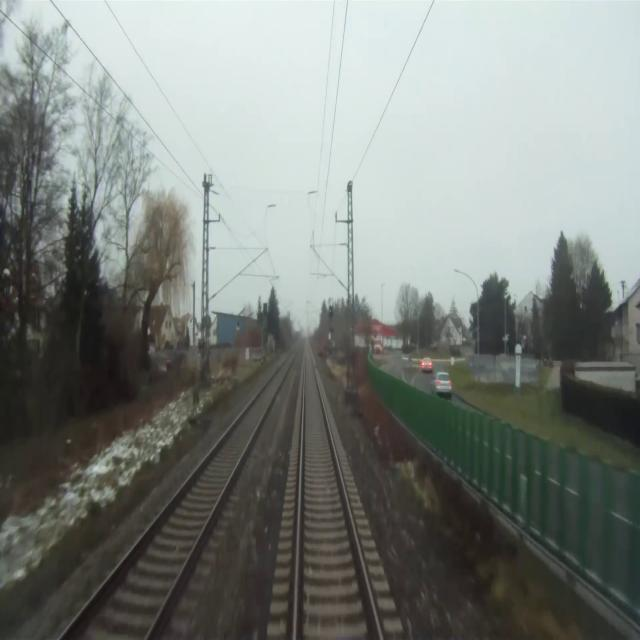rail-track: (63, 351, 294, 639), (298, 345, 378, 639)
